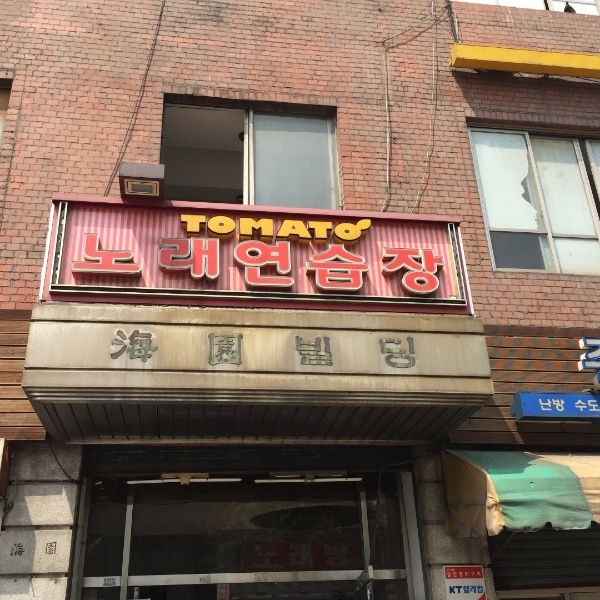text: (81, 228, 96, 297), (97, 228, 112, 297), (113, 228, 128, 297), (129, 228, 144, 297), (145, 228, 160, 297), (161, 228, 176, 297), (177, 228, 192, 297), (193, 228, 208, 297), (209, 228, 224, 297), (225, 228, 240, 297), (241, 228, 256, 297), (257, 228, 272, 297), (273, 228, 288, 297), (289, 228, 304, 297), (305, 228, 320, 297), (321, 228, 336, 297), (337, 228, 352, 297), (353, 228, 368, 297), (369, 228, 384, 297), (385, 228, 400, 297), (401, 228, 416, 297), (417, 228, 432, 297), (433, 228, 447, 297), (129, 328, 144, 367), (145, 328, 160, 367), (161, 328, 176, 367), (177, 328, 192, 367), (193, 328, 208, 367), (209, 328, 224, 367), (225, 328, 240, 367), (401, 334, 417, 369), (114, 328, 128, 367), (305, 334, 320, 369), (321, 334, 336, 369), (337, 334, 352, 369), (353, 334, 368, 369), (369, 334, 384, 369), (385, 334, 400, 369), (257, 541, 272, 573), (273, 541, 288, 573), (289, 541, 304, 573), (305, 541, 320, 573), (321, 541, 336, 573), (193, 213, 208, 244), (209, 213, 224, 244), (225, 213, 240, 244), (241, 213, 256, 244), (257, 213, 272, 244), (273, 213, 288, 244), (289, 213, 304, 244), (305, 213, 320, 244), (74, 228, 80, 297), (321, 213, 334, 244), (337, 541, 349, 573), (294, 334, 304, 369), (181, 213, 192, 244), (17, 542, 32, 560), (33, 542, 48, 560), (545, 398, 560, 412), (577, 399, 592, 412), (49, 542, 58, 560), (449, 586, 464, 594), (465, 586, 480, 594), (241, 328, 244, 367), (465, 572, 481, 578), (593, 399, 600, 412), (449, 572, 464, 578), (11, 542, 16, 560), (539, 398, 544, 412), (561, 398, 566, 412), (219, 585, 224, 599), (254, 541, 256, 573), (225, 585, 228, 599), (449, 568, 455, 572), (481, 586, 484, 594), (463, 586, 464, 594), (447, 572, 448, 578), (447, 568, 448, 572)
